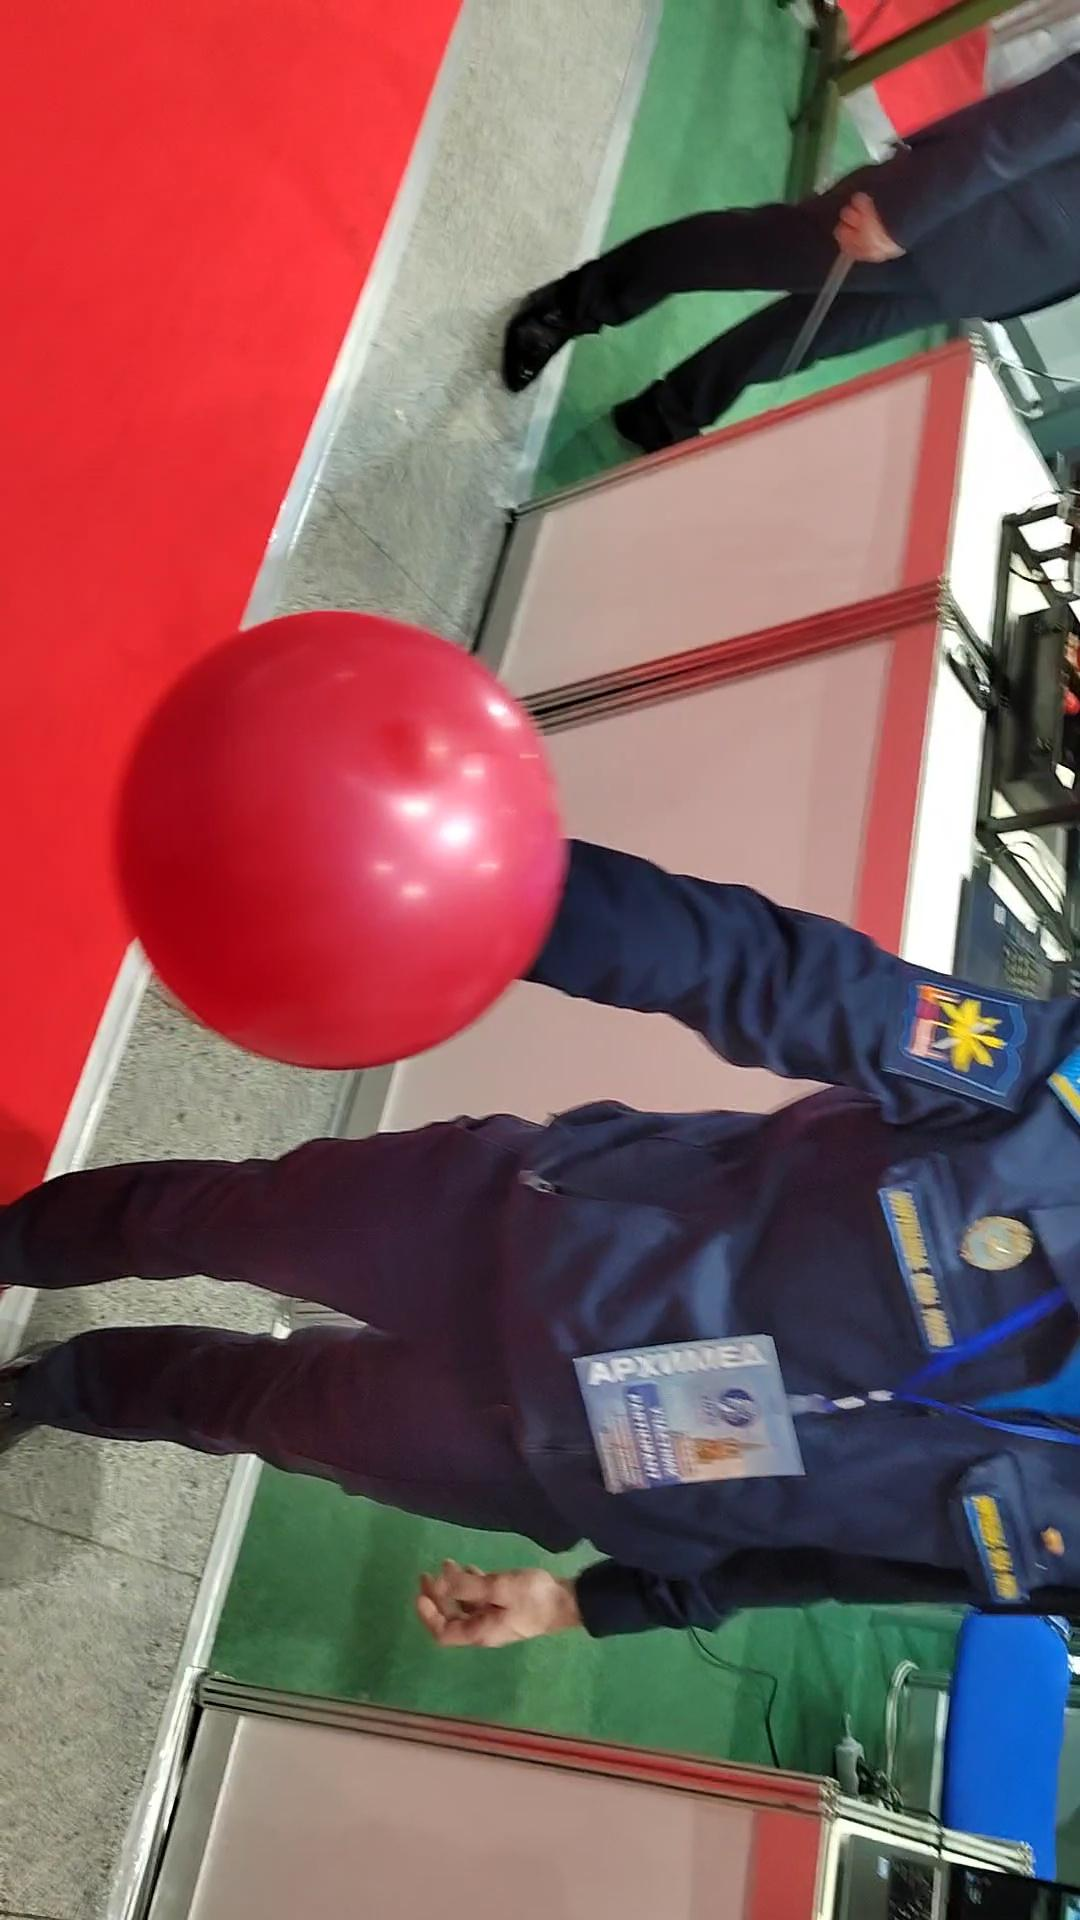red: (104, 601, 576, 1073)
